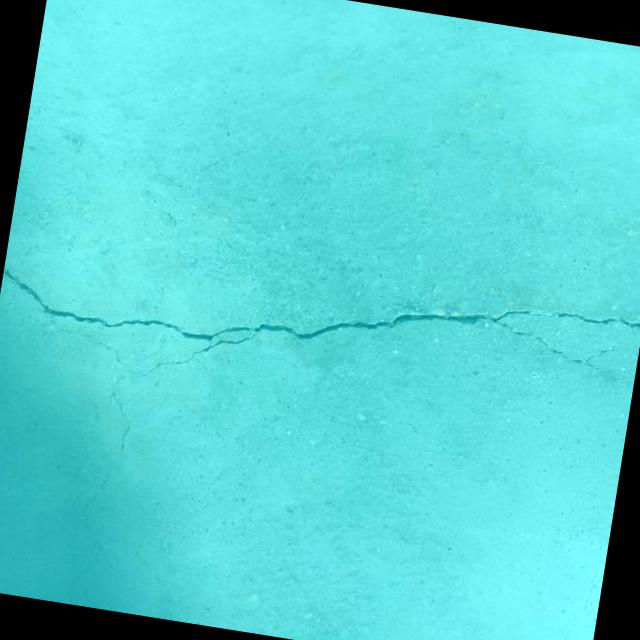crack: (0, 220, 640, 495), (44, 320, 131, 366), (80, 472, 108, 530), (118, 420, 133, 458), (594, 366, 636, 378), (95, 543, 103, 563)
